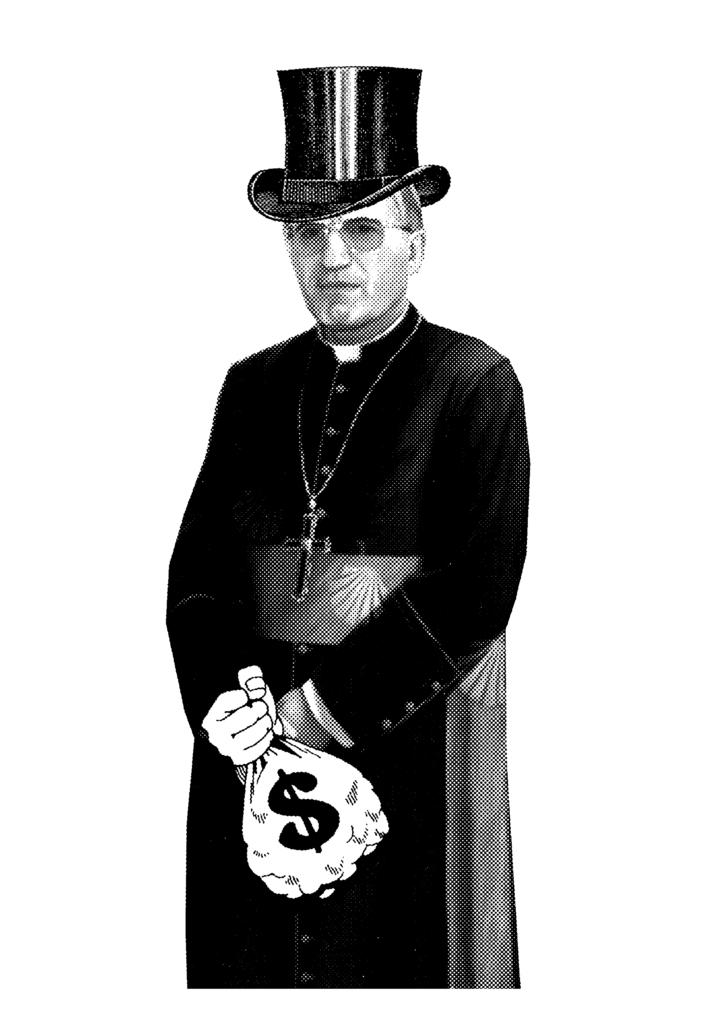Hat: (243, 66, 448, 224)
